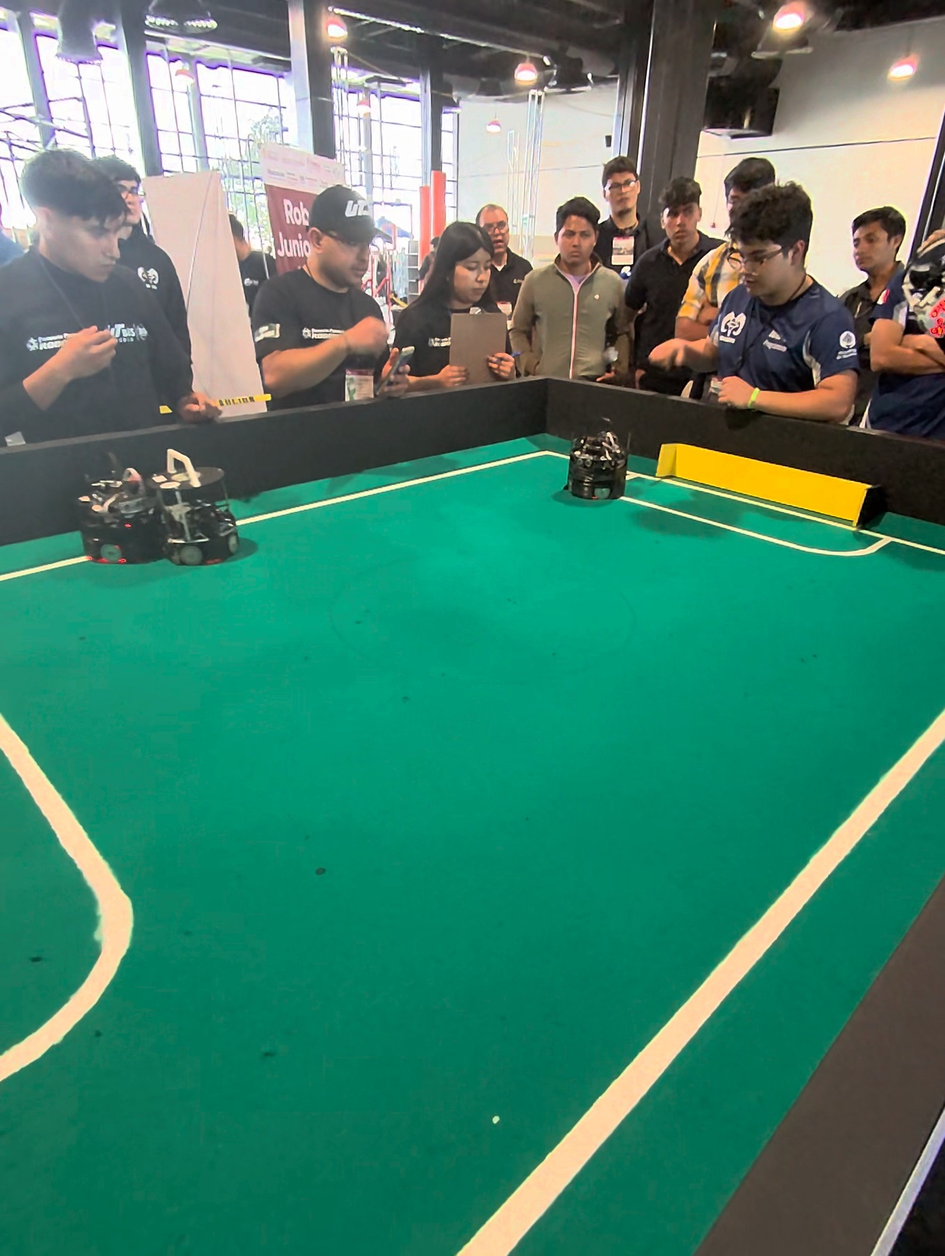Robot: (157, 442, 246, 571), (74, 447, 162, 569), (567, 420, 635, 510)
